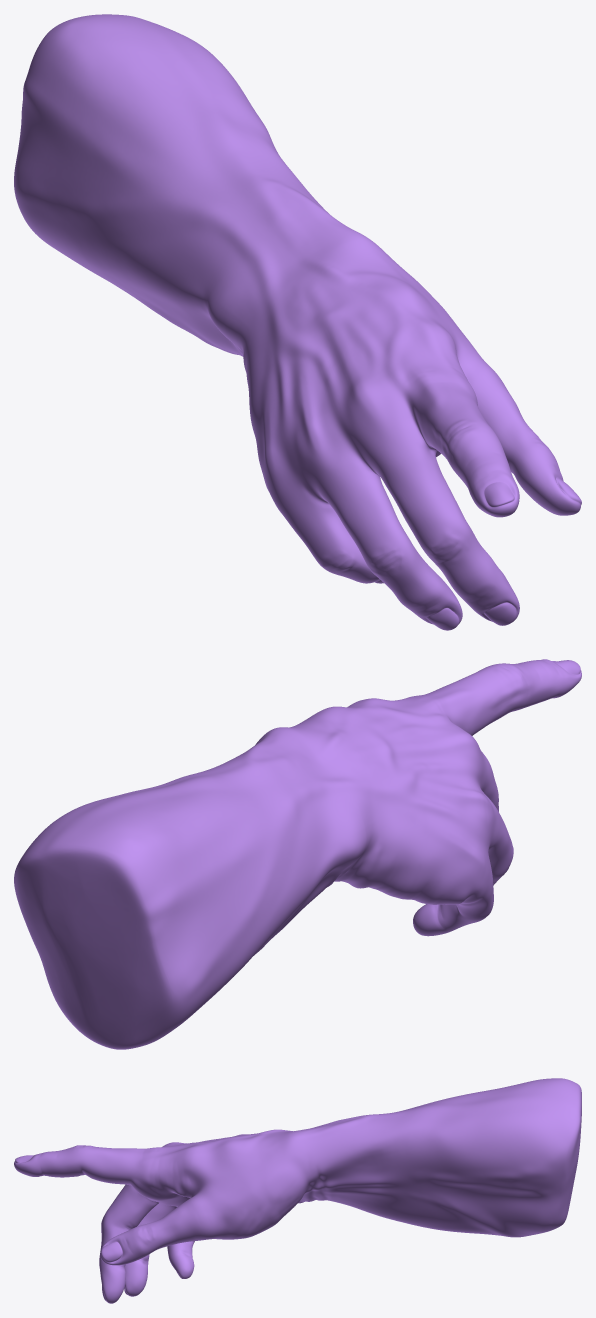
Rendered from right2.glb.
The picture shows the model from 3 angles, top to bottom: view 1: azimuth 30°, elevation 25°; view 2: azimuth 150°, elevation 25°; view 3: azimuth 270°, elevation 25°; orthographic projection. The views are drawn at different scales.
Parts seen in each view (by area): view 1: model; view 2: model; view 3: model.
Part boxes in pixels (bbox=[...]): model: bbox=[14, 14, 581, 630]; model: bbox=[14, 659, 581, 1049]; model: bbox=[14, 1078, 581, 1303].
Size of the model in its own units: 2.85 by 4.31 by 10.42.
